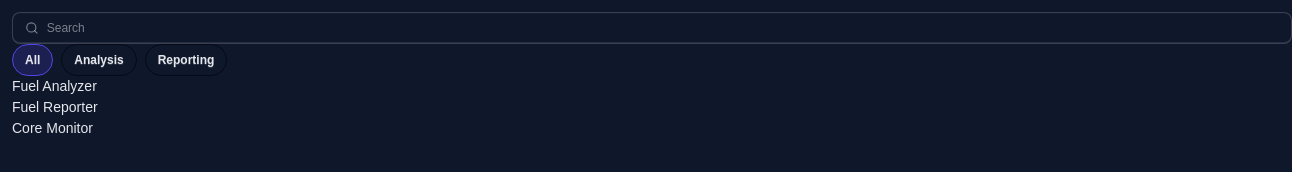
list filter: typing narrows the list, a chip narrows it further, a nonsense query shows no-match
Type "fuel" into the search field named "Search items".
click(663, 28); type("fuel")  # box [47,13,1279,43]
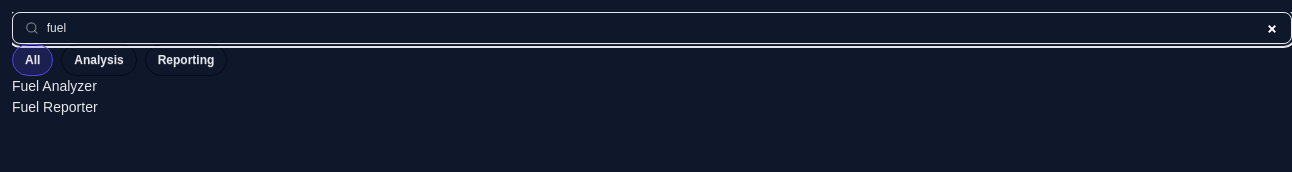
Click the button "Reporting".
click(186, 60)  # box [145,44,227,76]
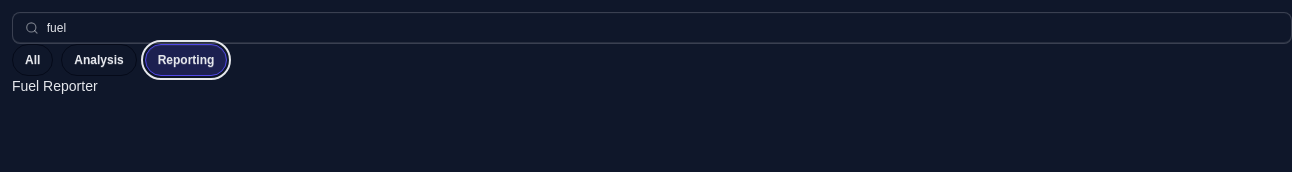
expect the button "Reporting" is pressed: met, box [145,44,227,76]
Replace the text in the search field named "Search items" with "zzqx" at (663, 28), box [47,13,1279,43]
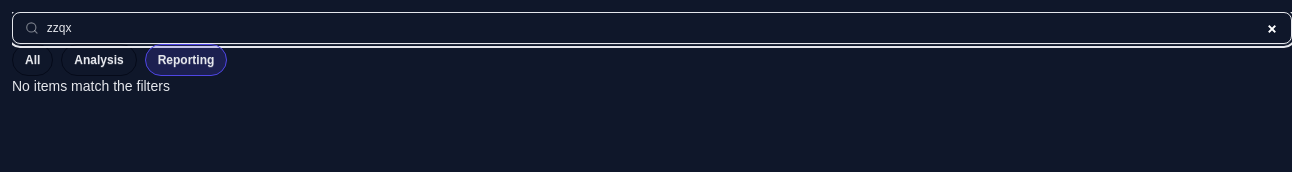
expect the message reads "No items match the filters": met, box [12,78,170,94]
